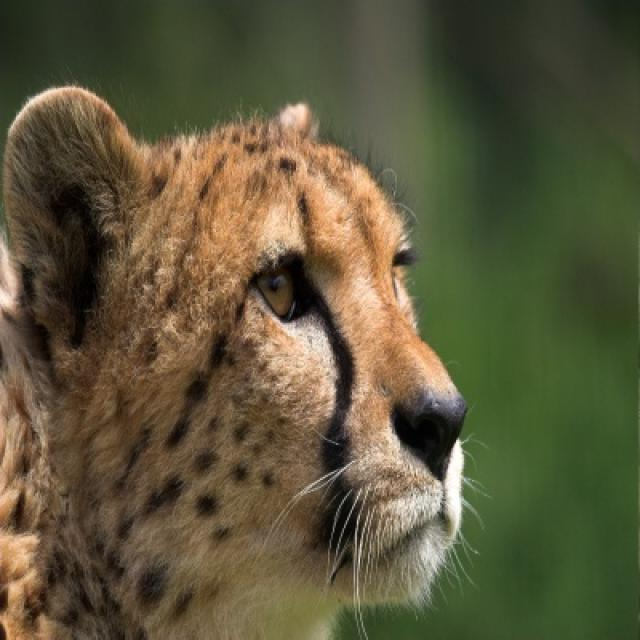Cheetah: (0, 86, 469, 638)
